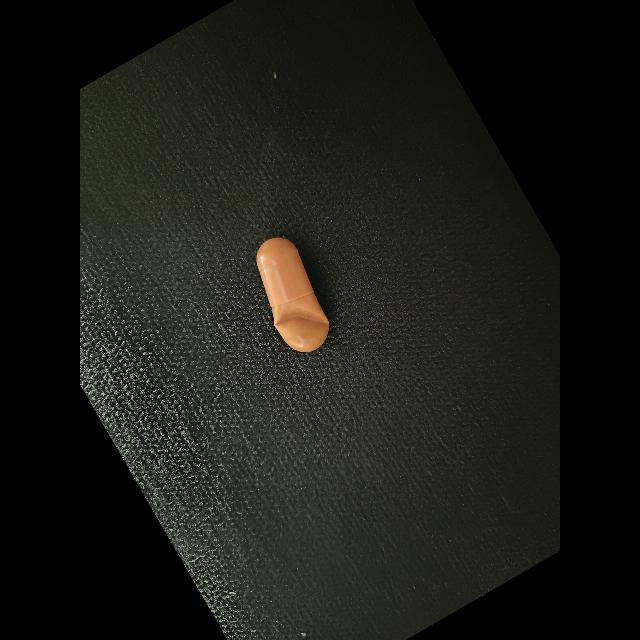Defective Capsule: (275, 306, 329, 329)
